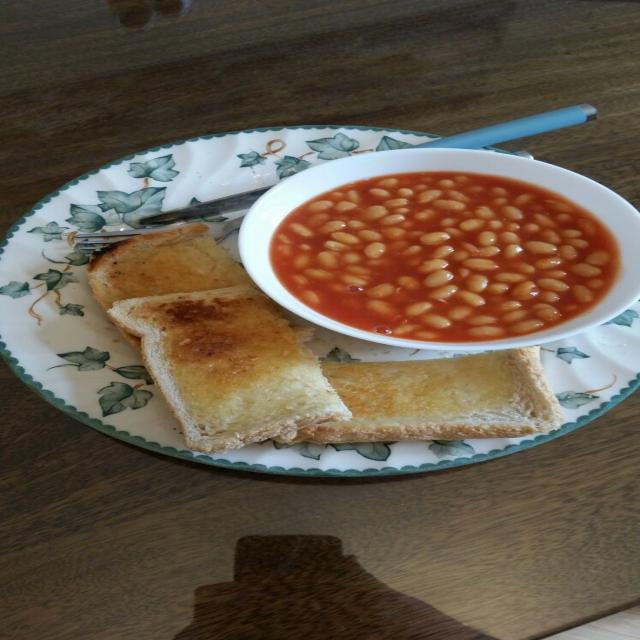beans: (274, 174, 617, 340), (423, 270, 453, 287), (510, 319, 544, 333), (418, 259, 448, 274), (512, 281, 537, 299), (457, 290, 485, 306), (537, 278, 568, 292), (468, 326, 504, 338), (367, 300, 395, 315), (430, 284, 458, 299), (405, 301, 433, 316), (421, 314, 451, 328), (367, 283, 395, 298), (535, 306, 561, 322), (569, 263, 601, 276), (463, 258, 497, 270), (362, 206, 389, 221), (466, 274, 488, 292), (524, 241, 557, 253), (331, 232, 360, 245), (502, 309, 528, 323), (420, 232, 450, 244), (586, 251, 610, 266), (572, 285, 593, 302), (433, 200, 465, 211), (364, 242, 386, 258), (448, 306, 473, 320), (533, 213, 556, 228), (534, 257, 562, 269), (340, 274, 368, 286), (501, 206, 523, 221), (290, 223, 313, 237), (541, 229, 561, 245), (577, 219, 597, 235), (417, 190, 441, 203), (486, 282, 510, 295), (320, 221, 346, 233), (397, 276, 419, 290), (307, 213, 329, 227), (467, 315, 497, 325), (460, 219, 485, 231), (503, 244, 523, 259), (357, 230, 382, 242), (380, 214, 405, 226), (477, 231, 497, 246), (394, 324, 419, 336), (447, 190, 470, 203), (474, 206, 495, 220), (304, 269, 333, 279), (494, 273, 526, 282), (547, 201, 573, 212), (300, 290, 319, 305), (559, 245, 577, 260), (293, 254, 311, 269), (432, 246, 454, 258), (345, 265, 371, 275), (478, 246, 501, 257), (383, 228, 406, 239), (308, 201, 333, 211), (513, 263, 535, 274), (369, 188, 391, 199), (500, 232, 520, 244), (342, 252, 362, 264), (500, 301, 521, 312), (414, 210, 435, 221), (514, 194, 533, 206), (383, 198, 408, 207), (539, 291, 559, 302), (389, 240, 409, 251), (291, 274, 309, 286), (378, 178, 399, 188), (336, 201, 357, 211), (402, 246, 423, 256), (567, 238, 588, 248), (450, 251, 470, 261), (439, 217, 457, 228), (416, 331, 438, 340), (545, 270, 566, 279), (461, 242, 478, 253), (347, 190, 360, 204), (347, 220, 367, 229), (467, 185, 486, 194), (444, 228, 463, 237), (587, 279, 604, 289), (397, 188, 414, 198), (561, 229, 582, 237), (278, 245, 293, 256), (437, 179, 455, 188), (504, 222, 520, 232), (487, 220, 503, 230), (277, 234, 293, 244), (555, 213, 572, 222), (492, 198, 509, 207), (490, 187, 507, 196), (523, 224, 539, 233), (454, 175, 470, 184), (331, 192, 345, 201), (414, 183, 427, 192), (459, 268, 471, 277), (299, 244, 312, 251)
sliced bread: (110, 286, 350, 453), (292, 347, 563, 444), (87, 223, 256, 310)
